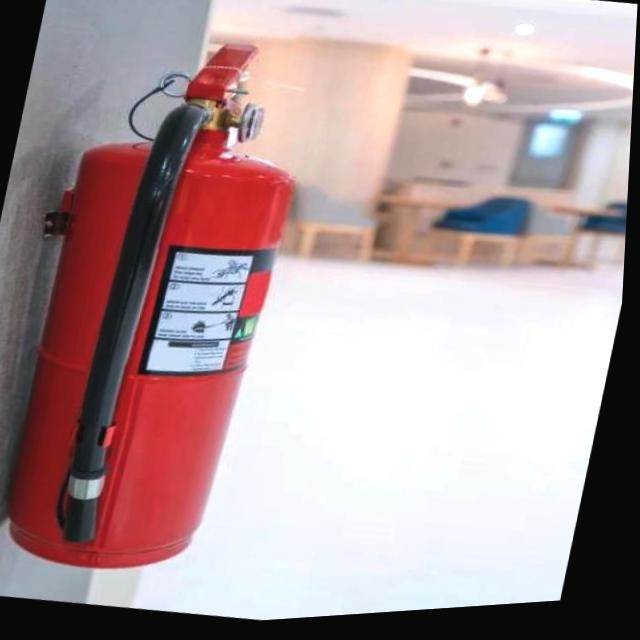FireExtinguisher: (0, 11, 336, 599)
